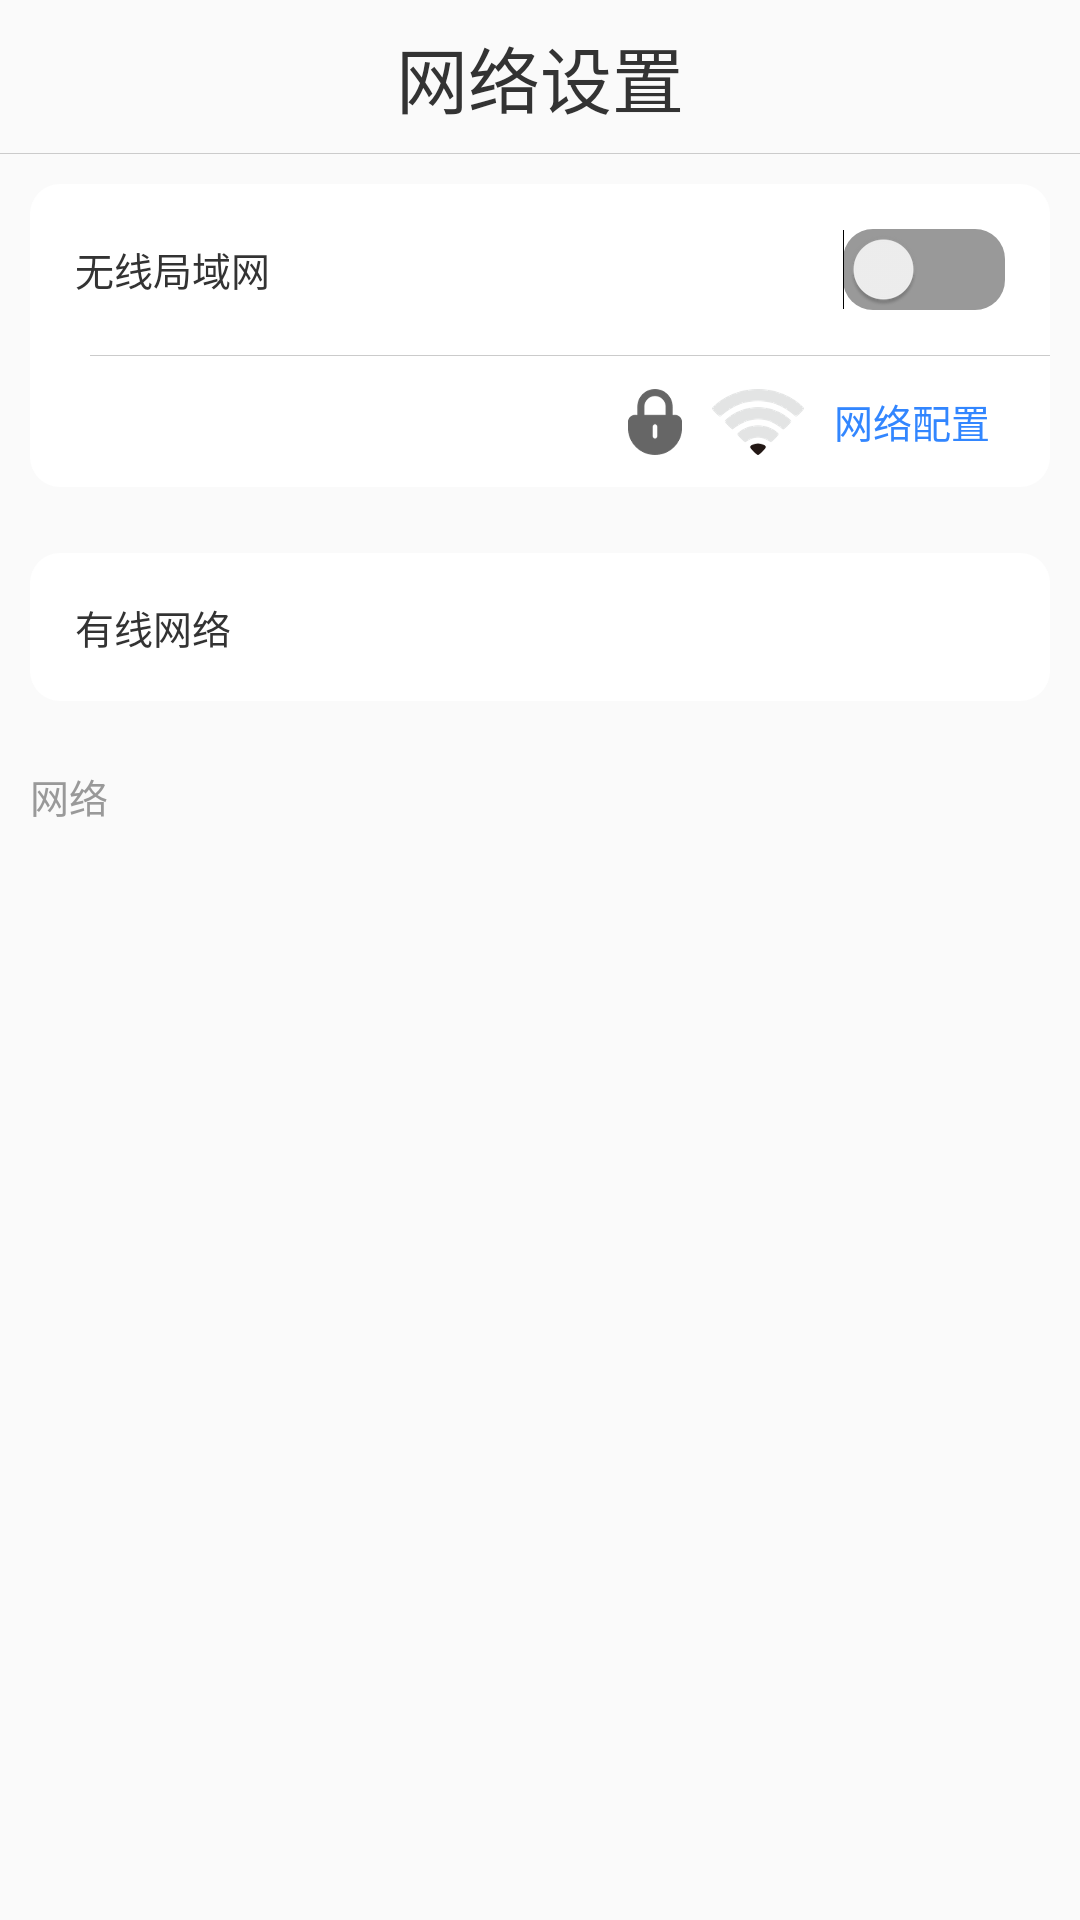

Icon bounding boxes for this 1080 × 1920 phone screenshot, format box(x1, y1, x2, y2):
wifi lock: box(628, 389, 682, 455)
wifi signal open: box(712, 389, 804, 455)
